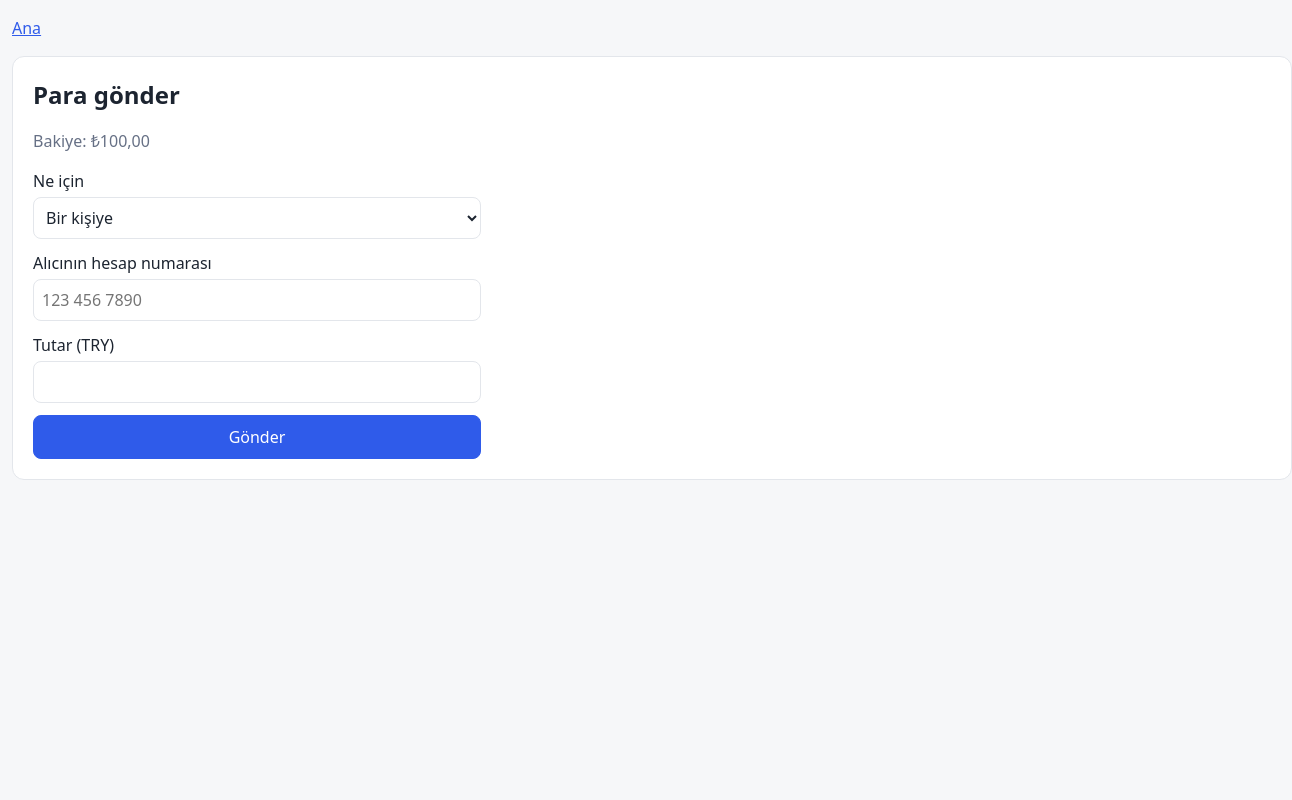
Test: TransferPage › tekrar edilmiş gönderimi söylüyor
Expected: the heading "Para gönder" is shown, [33, 78, 180, 111]
Type "123 456 7897" into the field labelled "Alıcının hesap numarası" at (257, 300), box [33, 279, 481, 321]
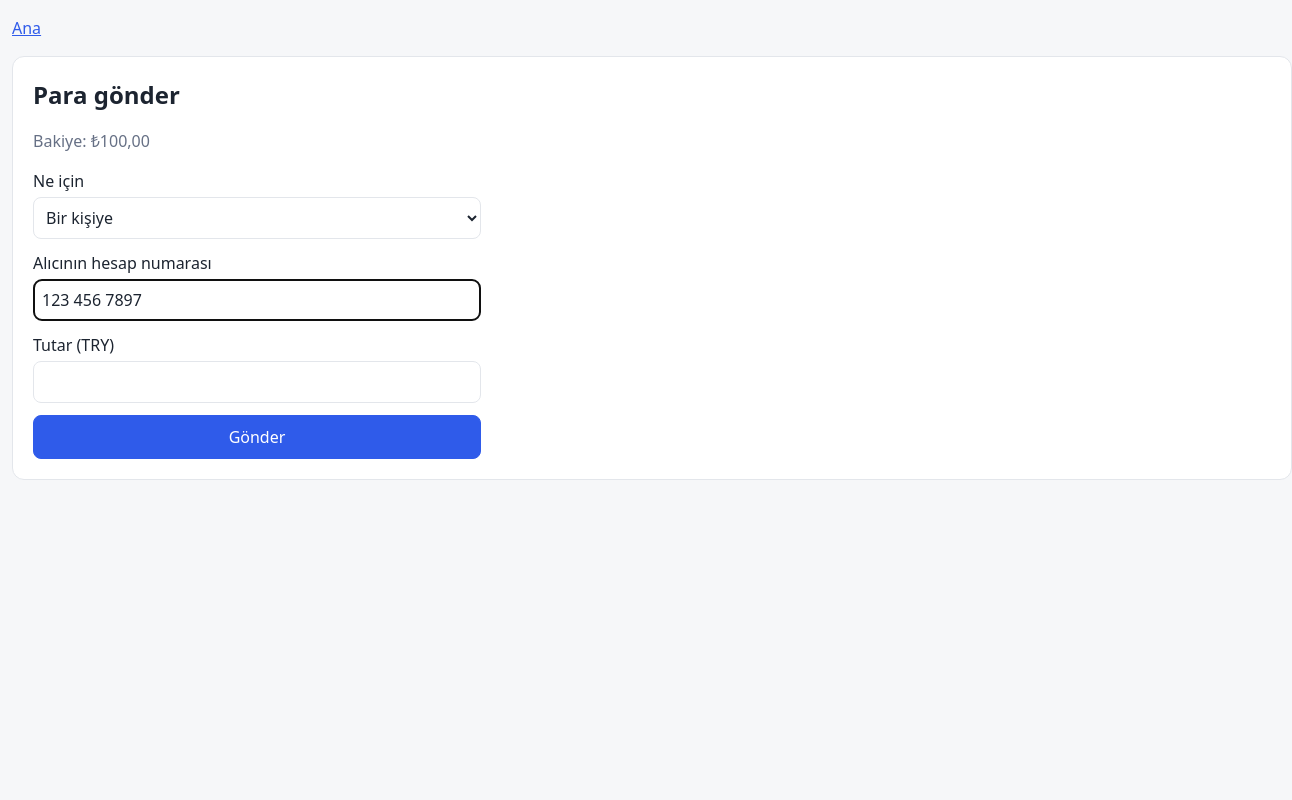
Type "25" into the number field labelled "Tutar (TRY)" at (257, 382), box [33, 361, 481, 403]
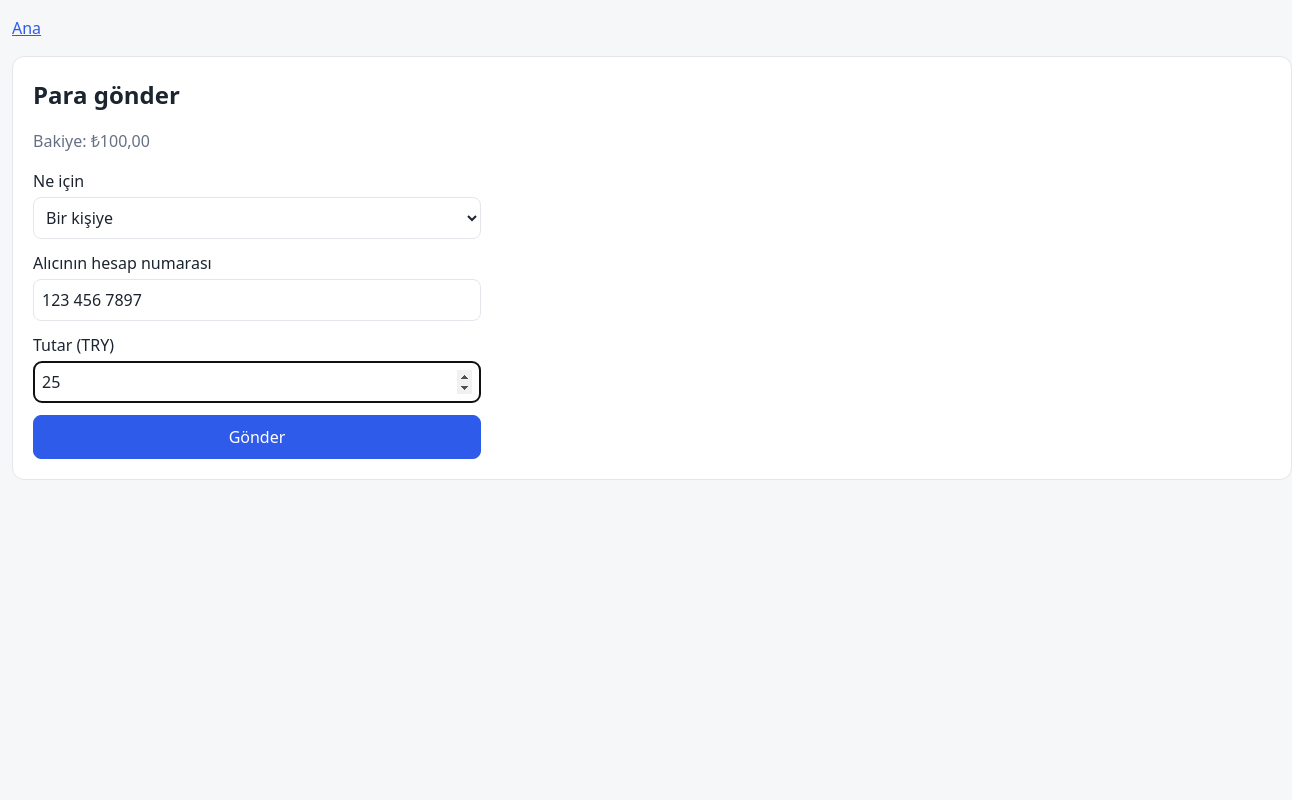
Click the button "Gönder" at (257, 437), box [33, 415, 481, 459]
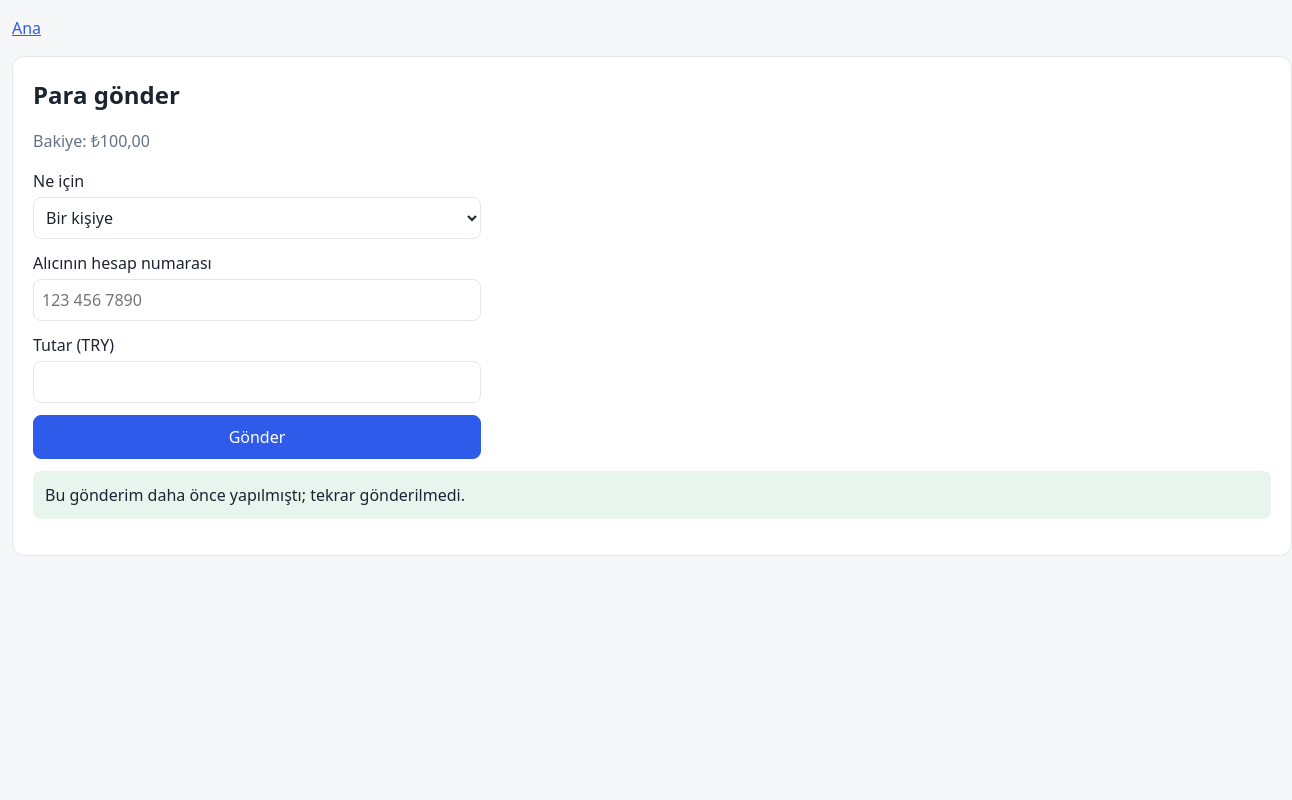
Expected: the message reads "Bu gönderim daha önce yapılmıştı; tekrar gönderilmedi.", [45, 484, 465, 506]
